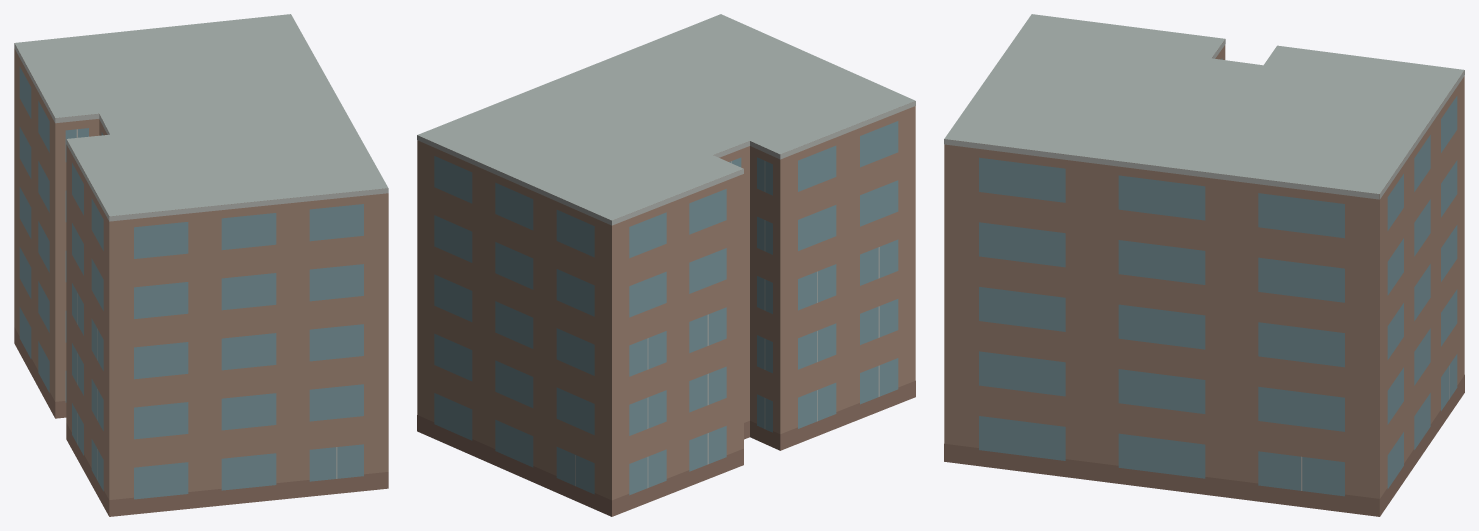
The model's file is survey-upis-32967169.glb.
The picture shows the model from 3 angles, left to right: view 1: azimuth 30°, elevation 25°; view 2: azimuth 150°, elevation 25°; view 3: azimuth 270°, elevation 25°; orthographic projection. The views are drawn at different scales.
Parts seen in each view (by area): view 1: survey-upis-32967169.tmp; view 2: survey-upis-32967169.tmp; view 3: survey-upis-32967169.tmp.
Part boxes in pixels (box(x1,y1,x2,y2)): survey-upis-32967169.tmp: box(14, 14, 388, 516); survey-upis-32967169.tmp: box(417, 14, 915, 516); survey-upis-32967169.tmp: box(944, 14, 1464, 516).
Size of the model in its own units: 17.19 by 14.35 by 20.99.
